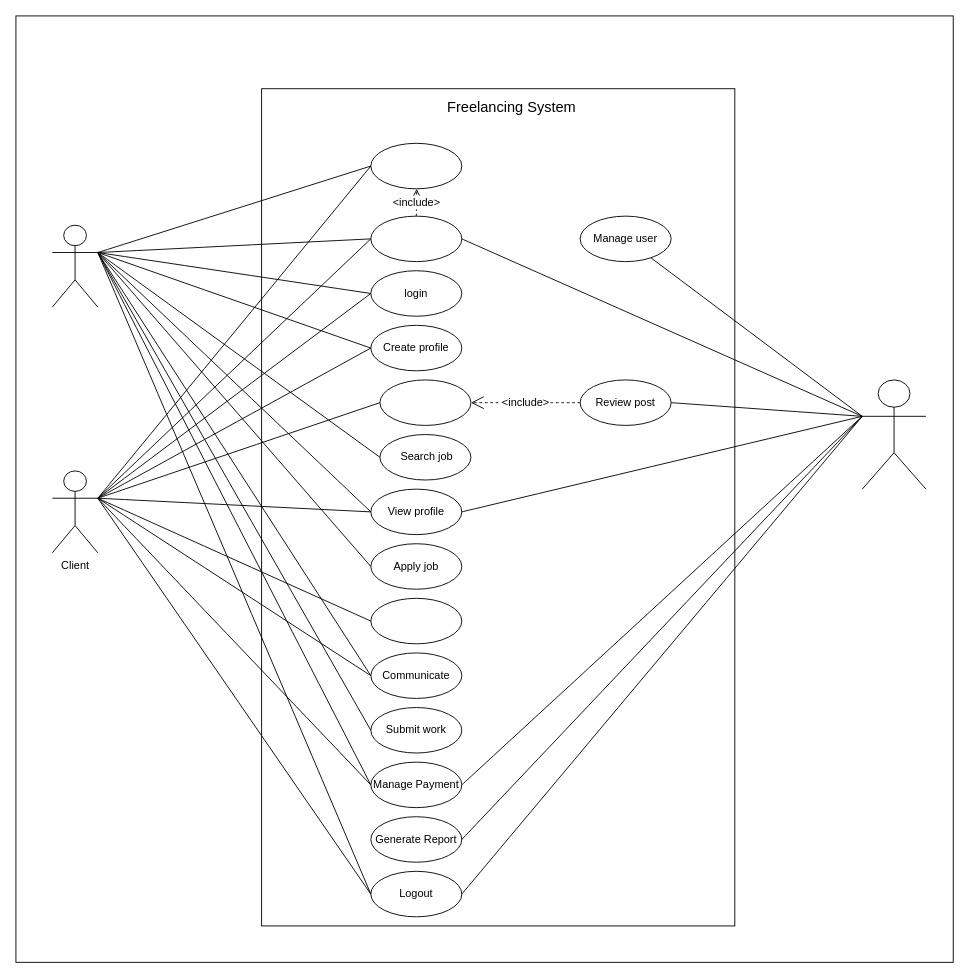
This 969x978 diagram has some shape labels left out. The shapes that lost their labels are listed below. From the top down, each one's box as (x1, y1, x2, y2) in pixels, then its label:
(370, 142, 462, 189): Register
(370, 215, 462, 262): Email verification
(51, 224, 98, 307): Freelancer
(379, 379, 471, 425): Post job
(861, 379, 926, 489): Admin
(370, 597, 462, 644): Hire freelancer
